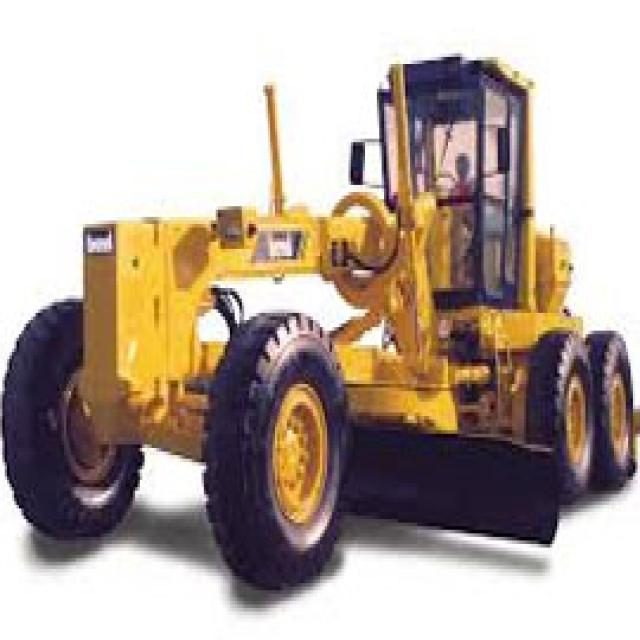buldozerpayloadergrader: (2, 54, 640, 578)
